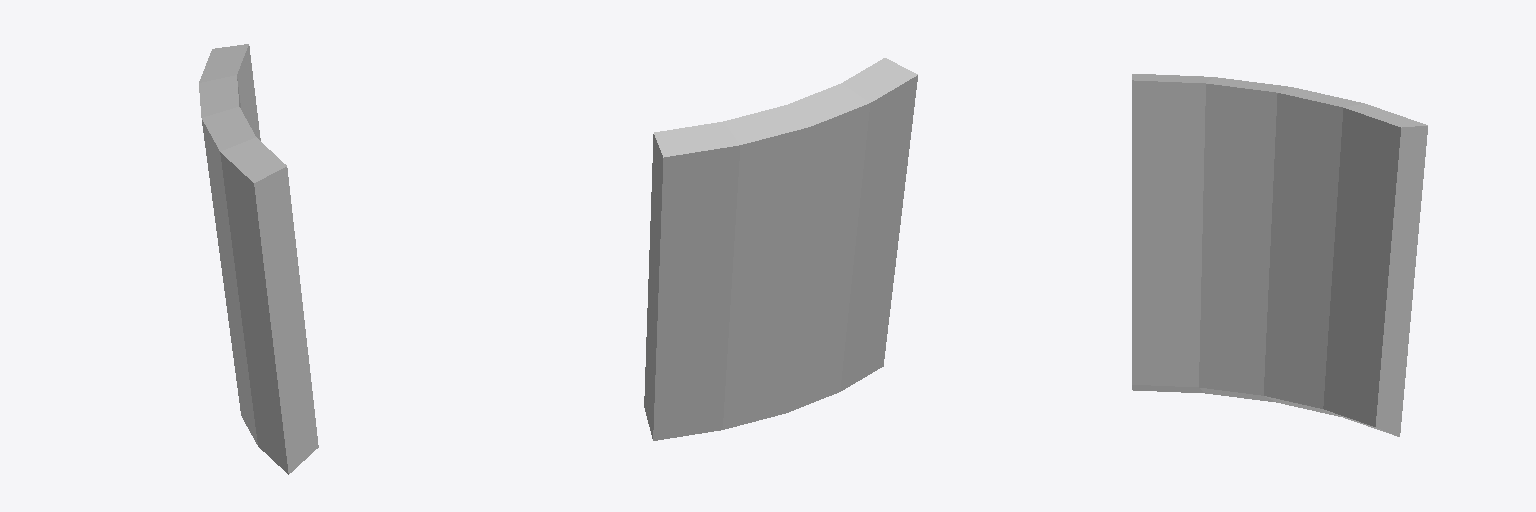
The model's file is Level_2_1.obj.
3 renders of one model, left to right at view 1: azimuth 30°, elevation 25°; view 2: azimuth 150°, elevation 25°; view 3: azimuth 270°, elevation 25°, orthographic.
Parts seen in each view (by area): view 1: Level_2_1_Cylinder.022; view 2: Level_2_1_Cylinder.022; view 3: Level_2_1_Cylinder.022.
Boxes of the visible parts, box(x1,y1,x2,y2) form: Level_2_1_Cylinder.022: box(199, 44, 318, 474); Level_2_1_Cylinder.022: box(644, 58, 917, 440); Level_2_1_Cylinder.022: box(1132, 74, 1427, 436).
Size of the model in its own units: 0.9886 by 1.92 by 1.67.